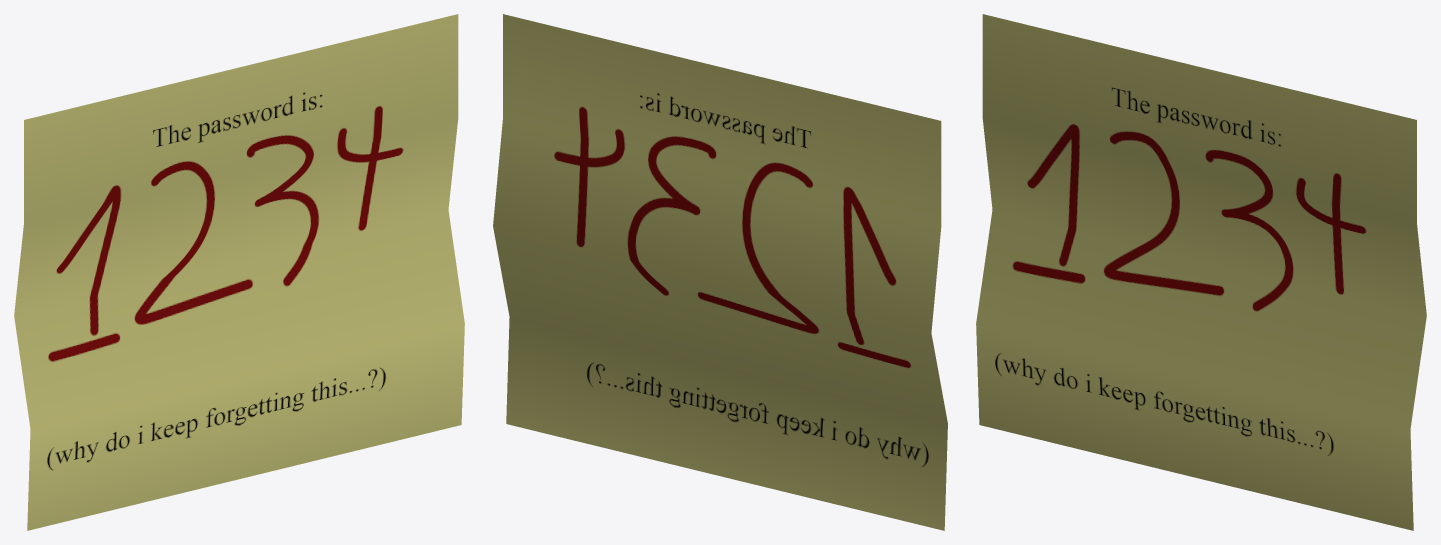
File: stickynotealternate.fbx
The picture shows the model from 3 angles, left to right: view 1: azimuth 30°, elevation 25°; view 2: azimuth 150°, elevation 25°; view 3: azimuth 330°, elevation 25°; orthographic projection.
Visible parts, largest first — view 1: pPlane1; view 2: pPlane1; view 3: pPlane1.
Part boxes in pixels (x1,y1,x2,y2): pPlane1: (14, 14, 464, 530); pPlane1: (493, 14, 947, 530); pPlane1: (976, 14, 1426, 530).
Bounding box in the file's own units: 8.74 × 7.86 × 0.5711.
1 material, 1 textured.
